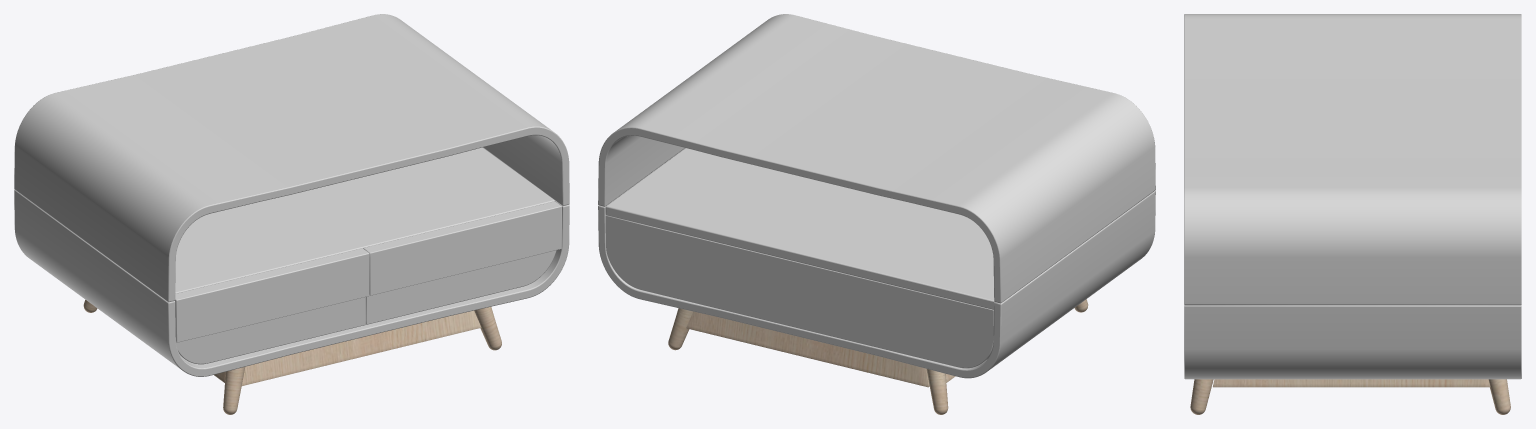
Rendered from unite.fbx.
3 views of the same model, side by side, from view 1: azimuth 30°, elevation 25°; view 2: azimuth 150°, elevation 25°; view 3: azimuth 270°, elevation 25° (orthographic). The views are drawn at different scales.
Parts seen in each view (by area): view 1: Esme_Compact_Media_Unit_DarkStainedAsh; view 2: Esme_Compact_Media_Unit_DarkStainedAsh; view 3: Esme_Compact_Media_Unit_DarkStainedAsh.
Part boxes in pixels (<box>): Esme_Compact_Media_Unit_DarkStainedAsh: <box>14,14,569,414</box>; Esme_Compact_Media_Unit_DarkStainedAsh: <box>598,14,1155,414</box>; Esme_Compact_Media_Unit_DarkStainedAsh: <box>1184,14,1521,414</box>.
Size of what is drawn, in the model's own units: 90.36 by 47.28 by 60.17.
